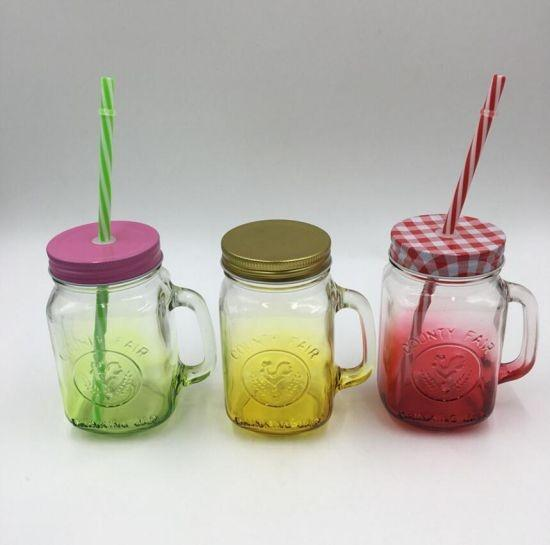glass-mug: (43, 215, 219, 440), (375, 209, 542, 436), (216, 216, 378, 441)
